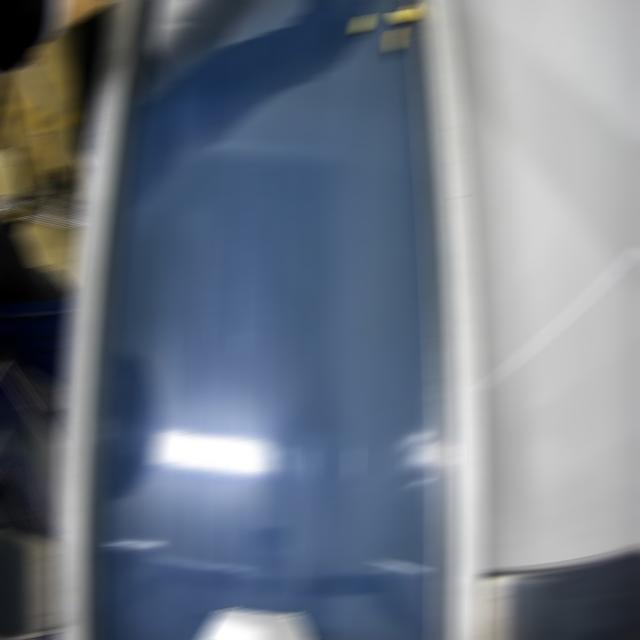Baby Potato: (388, 3, 419, 23), (386, 26, 405, 52), (352, 13, 372, 34)
